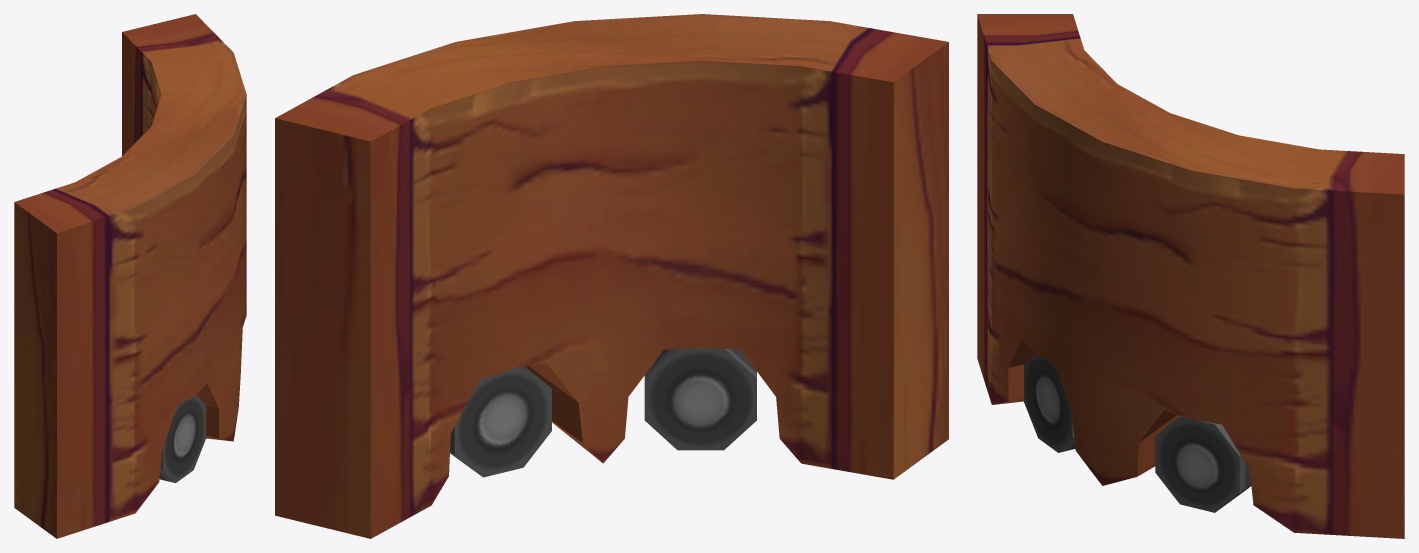
The model's file is dynamic_arched_fence_wood_01.fbx.
3 views of the same model, side by side, from view 1: azimuth 30°, elevation 25°; view 2: azimuth 150°, elevation 25°; view 3: azimuth 270°, elevation 25° (orthographic). The views are drawn at different scales.
Parts seen in each view (by area): view 1: dynamic_arched_fence_wood_01; view 2: dynamic_arched_fence_wood_01; view 3: dynamic_arched_fence_wood_01.
Boxes of the visible parts, x1=… form: dynamic_arched_fence_wood_01: x1=14, y1=14, x2=246, y2=538; dynamic_arched_fence_wood_01: x1=275, y1=14, x2=948, y2=538; dynamic_arched_fence_wood_01: x1=977, y1=14, x2=1404, y2=538.
Bounding box in the file's own units: 45 × 40 × 45.
